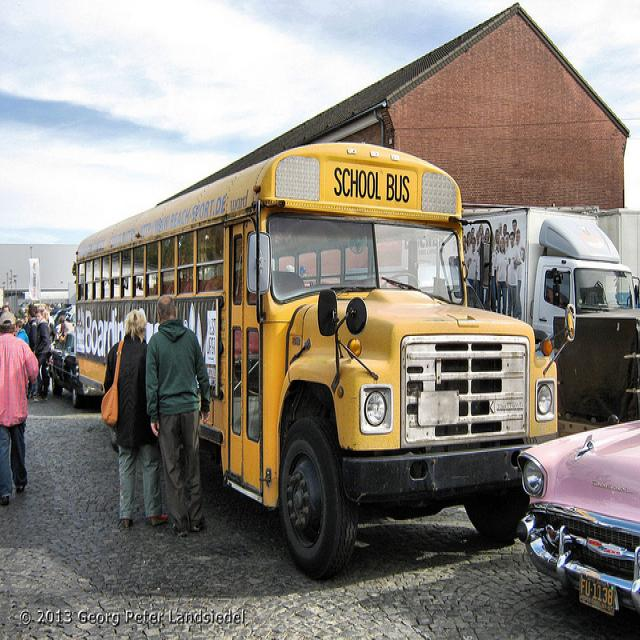Vehicle: (70, 147, 580, 588), (463, 206, 639, 359), (516, 419, 640, 616), (48, 332, 102, 406), (595, 206, 640, 289)
